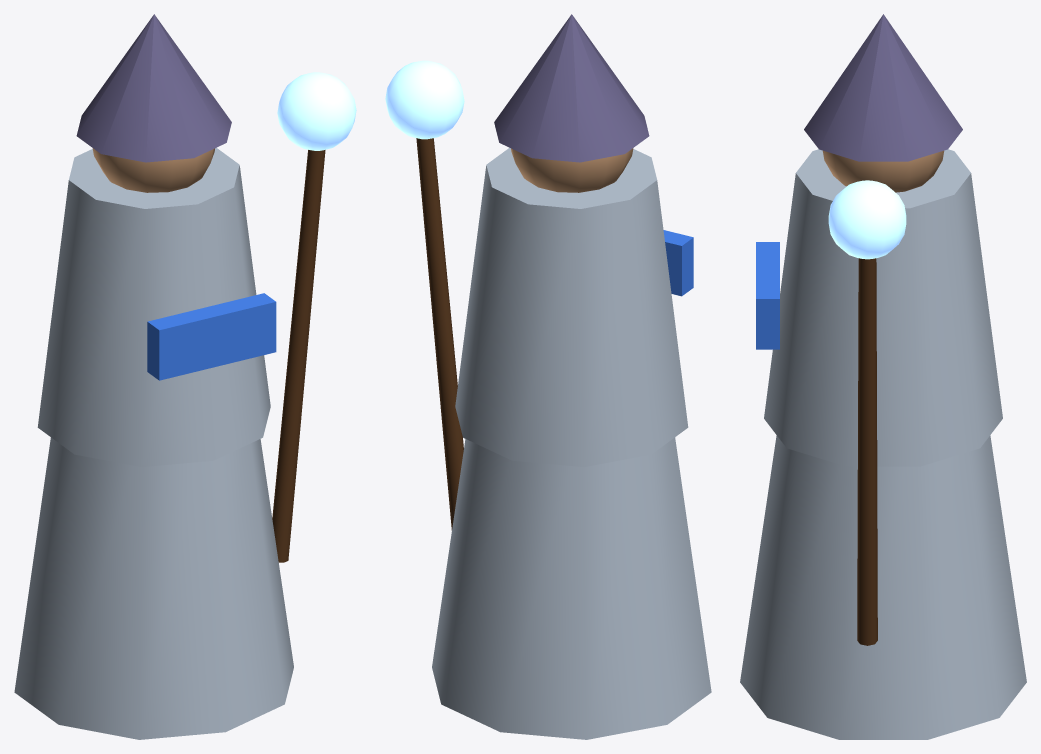
File: sorceress.glb
3 views of the same model, side by side, from view 1: azimuth 30°, elevation 25°; view 2: azimuth 150°, elevation 25°; view 3: azimuth 270°, elevation 25° (orthographic).
Parts seen in each view (by area): view 1: sorceress-robe-lower, sorceress-robe-upper, sorceress-hood, sorceress-team-sash, sorceress-staff-shaft, sorceress-frost-focus, sorceress-head; view 2: sorceress-robe-lower, sorceress-robe-upper, sorceress-hood, sorceress-staff-shaft, sorceress-frost-focus, sorceress-head, sorceress-team-sash; view 3: sorceress-robe-lower, sorceress-robe-upper, sorceress-hood, sorceress-staff-shaft, sorceress-frost-focus, sorceress-head, sorceress-team-sash.
Boxes of the visible parts, x1=… form: sorceress-robe-lower: x1=14, y1=437, x2=293, y2=739; sorceress-robe-upper: x1=37, y1=148, x2=270, y2=466; sorceress-hood: x1=76, y1=14, x2=231, y2=162; sorceress-team-sash: x1=147, y1=293, x2=276, y2=380; sorceress-staff-shaft: x1=272, y1=150, x2=325, y2=562; sorceress-frost-focus: x1=277, y1=72, x2=356, y2=150; sorceress-head: x1=92, y1=148, x2=214, y2=192; sorceress-robe-lower: x1=432, y1=437, x2=711, y2=739; sorceress-robe-upper: x1=455, y1=147, x2=688, y2=467; sorceress-hood: x1=494, y1=14, x2=649, y2=162; sorceress-staff-shaft: x1=416, y1=138, x2=463, y2=530; sorceress-frost-focus: x1=385, y1=60, x2=464, y2=139; sorceress-head: x1=511, y1=148, x2=633, y2=192; sorceress-team-sash: x1=663, y1=230, x2=693, y2=296; sorceress-robe-lower: x1=740, y1=435, x2=1026, y2=739; sorceress-robe-upper: x1=764, y1=149, x2=1002, y2=466; sorceress-hood: x1=804, y1=14, x2=962, y2=161; sorceress-staff-shaft: x1=857, y1=258, x2=877, y2=645; sorceress-frost-focus: x1=828, y1=180, x2=906, y2=259; sorceress-head: x1=822, y1=150, x2=944, y2=192; sorceress-team-sash: x1=756, y1=242, x2=779, y2=349.
Bounding box in the file's own units: 0.8924 × 1.85 × 0.72.
